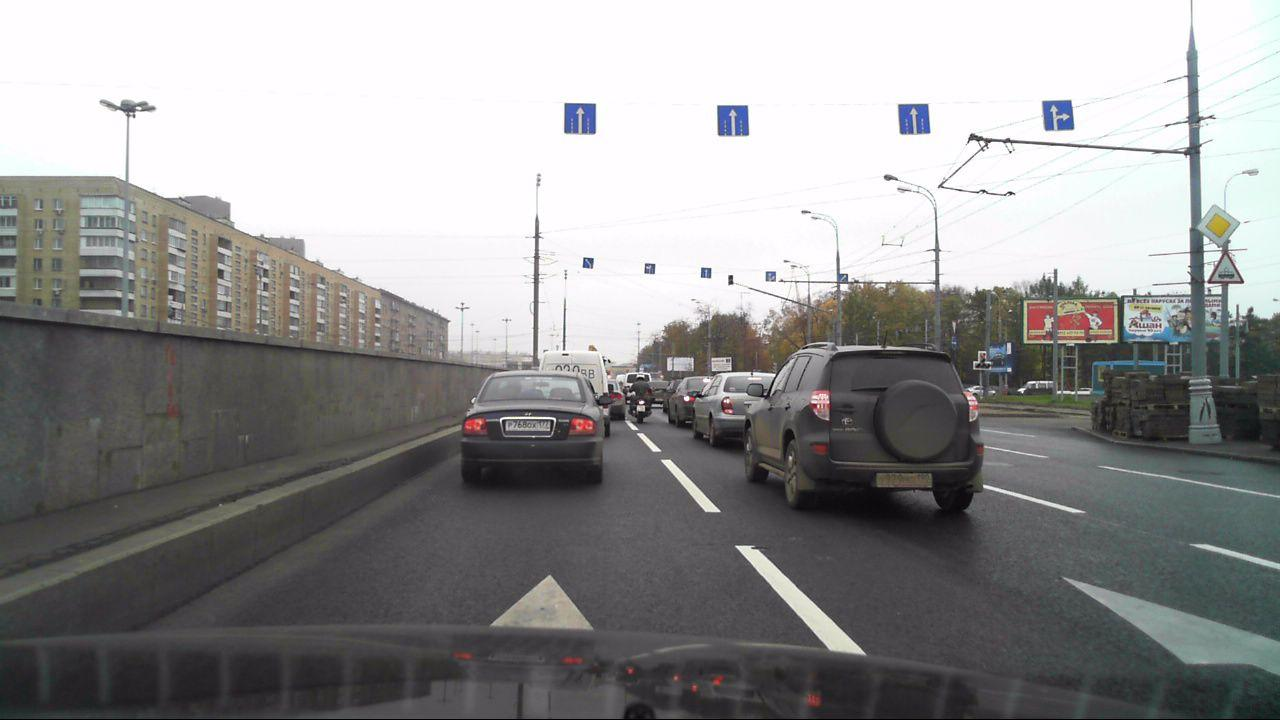1_5: (1207, 248, 1244, 284)
2_1: (1197, 206, 1239, 247)
5_15_2: (1038, 99, 1078, 132), (715, 104, 752, 136), (897, 103, 933, 133), (563, 103, 597, 133), (763, 269, 778, 283), (838, 269, 851, 285), (699, 266, 712, 278), (583, 256, 594, 270), (644, 262, 657, 273)
